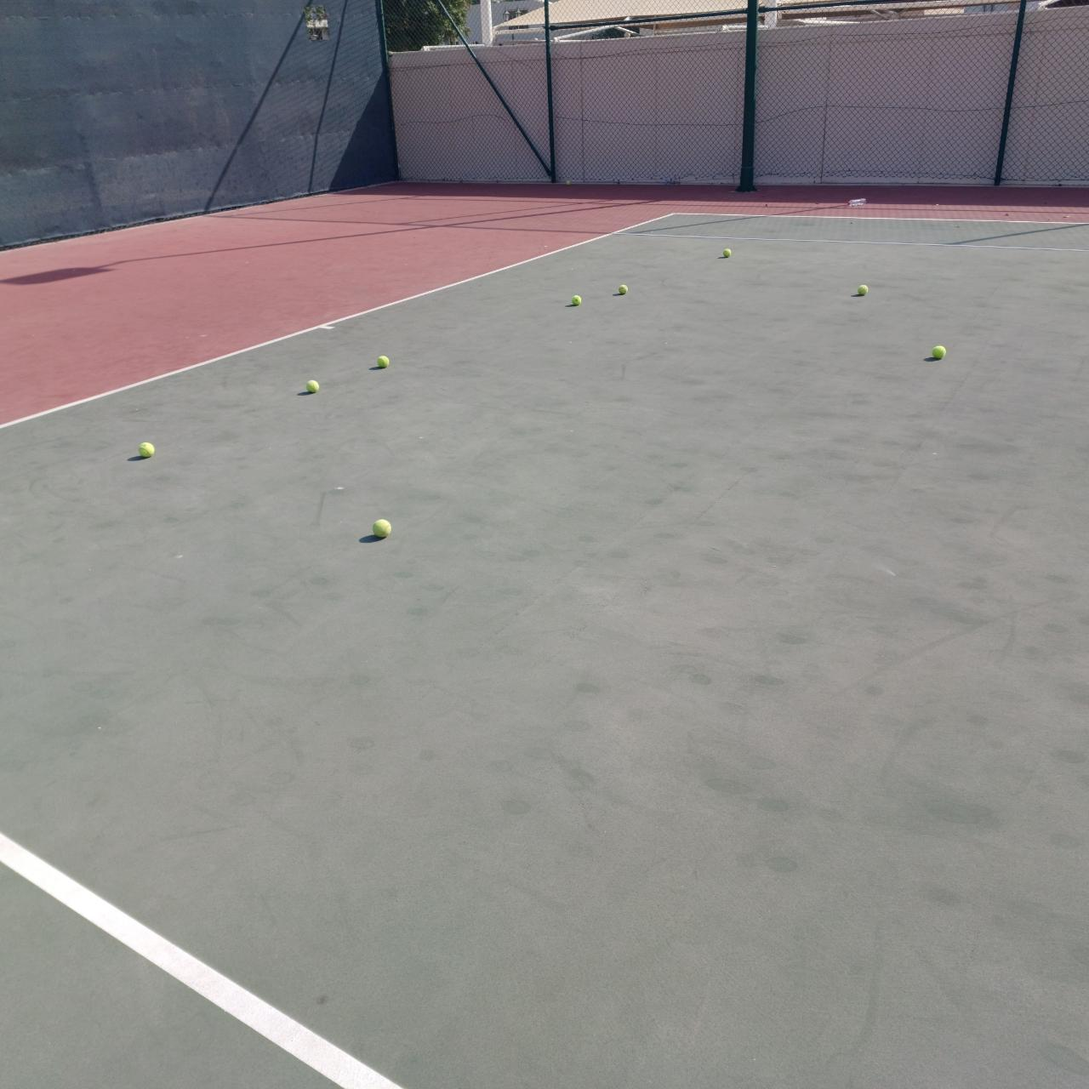tennis-ball: (371, 516, 391, 538), (136, 439, 155, 458), (931, 343, 945, 359), (376, 352, 390, 368), (305, 377, 319, 392), (855, 282, 868, 296), (718, 246, 731, 259), (615, 282, 627, 294), (569, 293, 581, 305)
